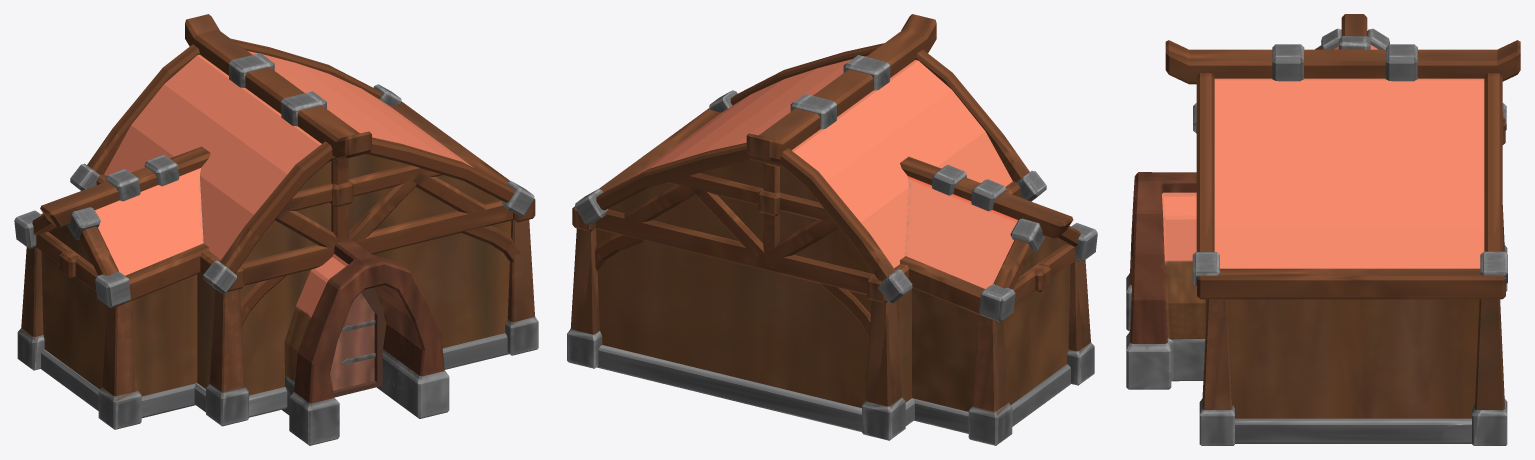
Rendered from AsgardHouses2.glb.
The picture shows the model from 3 angles, left to right: view 1: azimuth 30°, elevation 25°; view 2: azimuth 150°, elevation 25°; view 3: azimuth 270°, elevation 25°; orthographic projection. The views are drawn at different scales.
Parts seen in each view (by area): view 1: TownHouse2; view 2: TownHouse2; view 3: TownHouse2.
Boxes of the visible parts, box(x1,y1,x2,y2) form: TownHouse2: box(14, 14, 538, 445); TownHouse2: box(567, 14, 1097, 445); TownHouse2: box(1126, 14, 1520, 445).
Size of the model in its own units: 15.7 by 9.98 by 11.64.
1 material, 1 textured.
